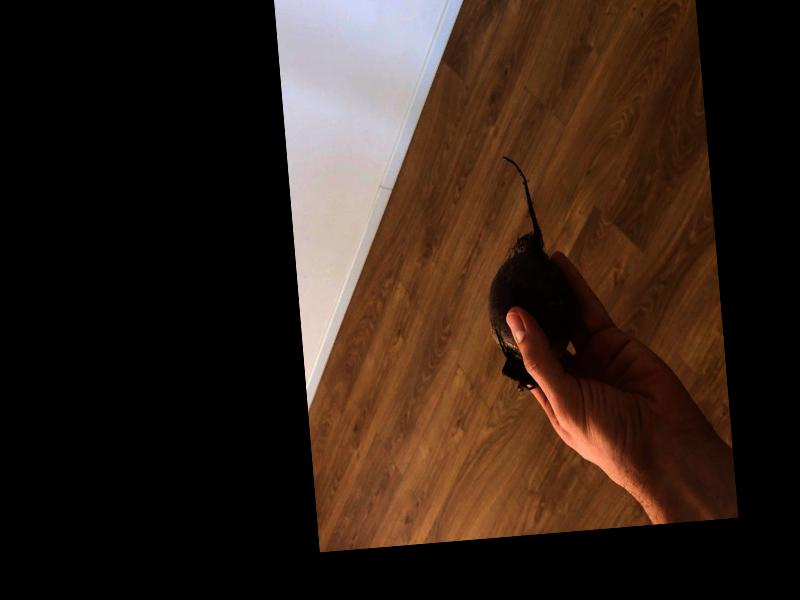Beet: (477, 151, 580, 392)
